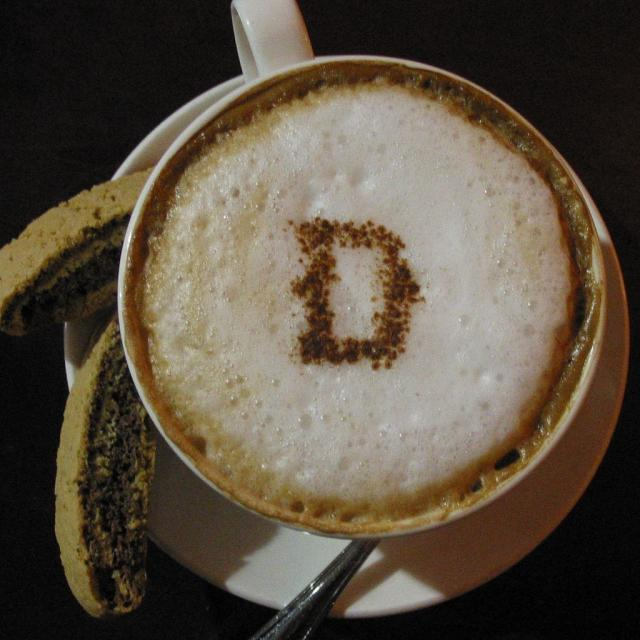Coffee: (126, 58, 610, 526)
